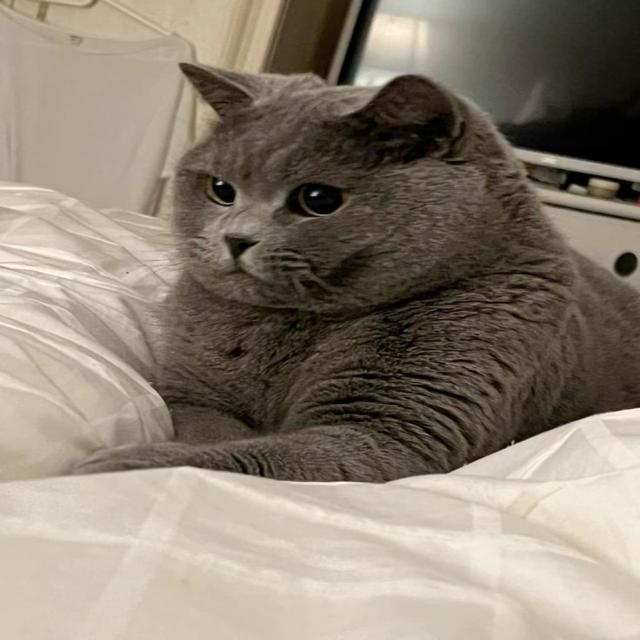british shorthair: (76, 64, 639, 481)
